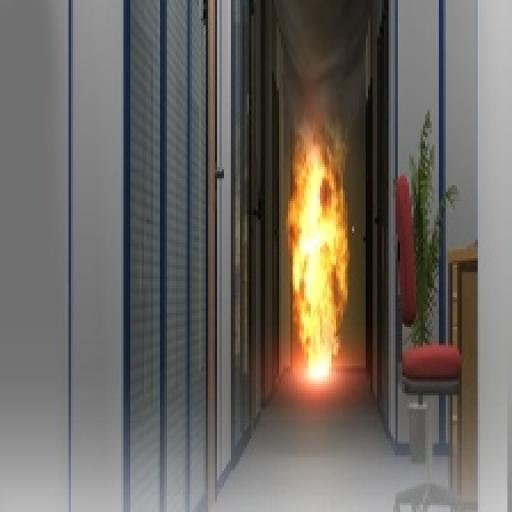fire and smoke: (288, 126, 349, 379)
